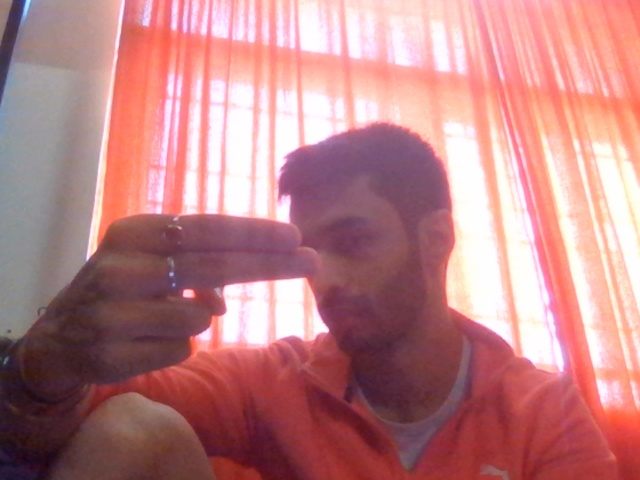H: (32, 199, 329, 398)
